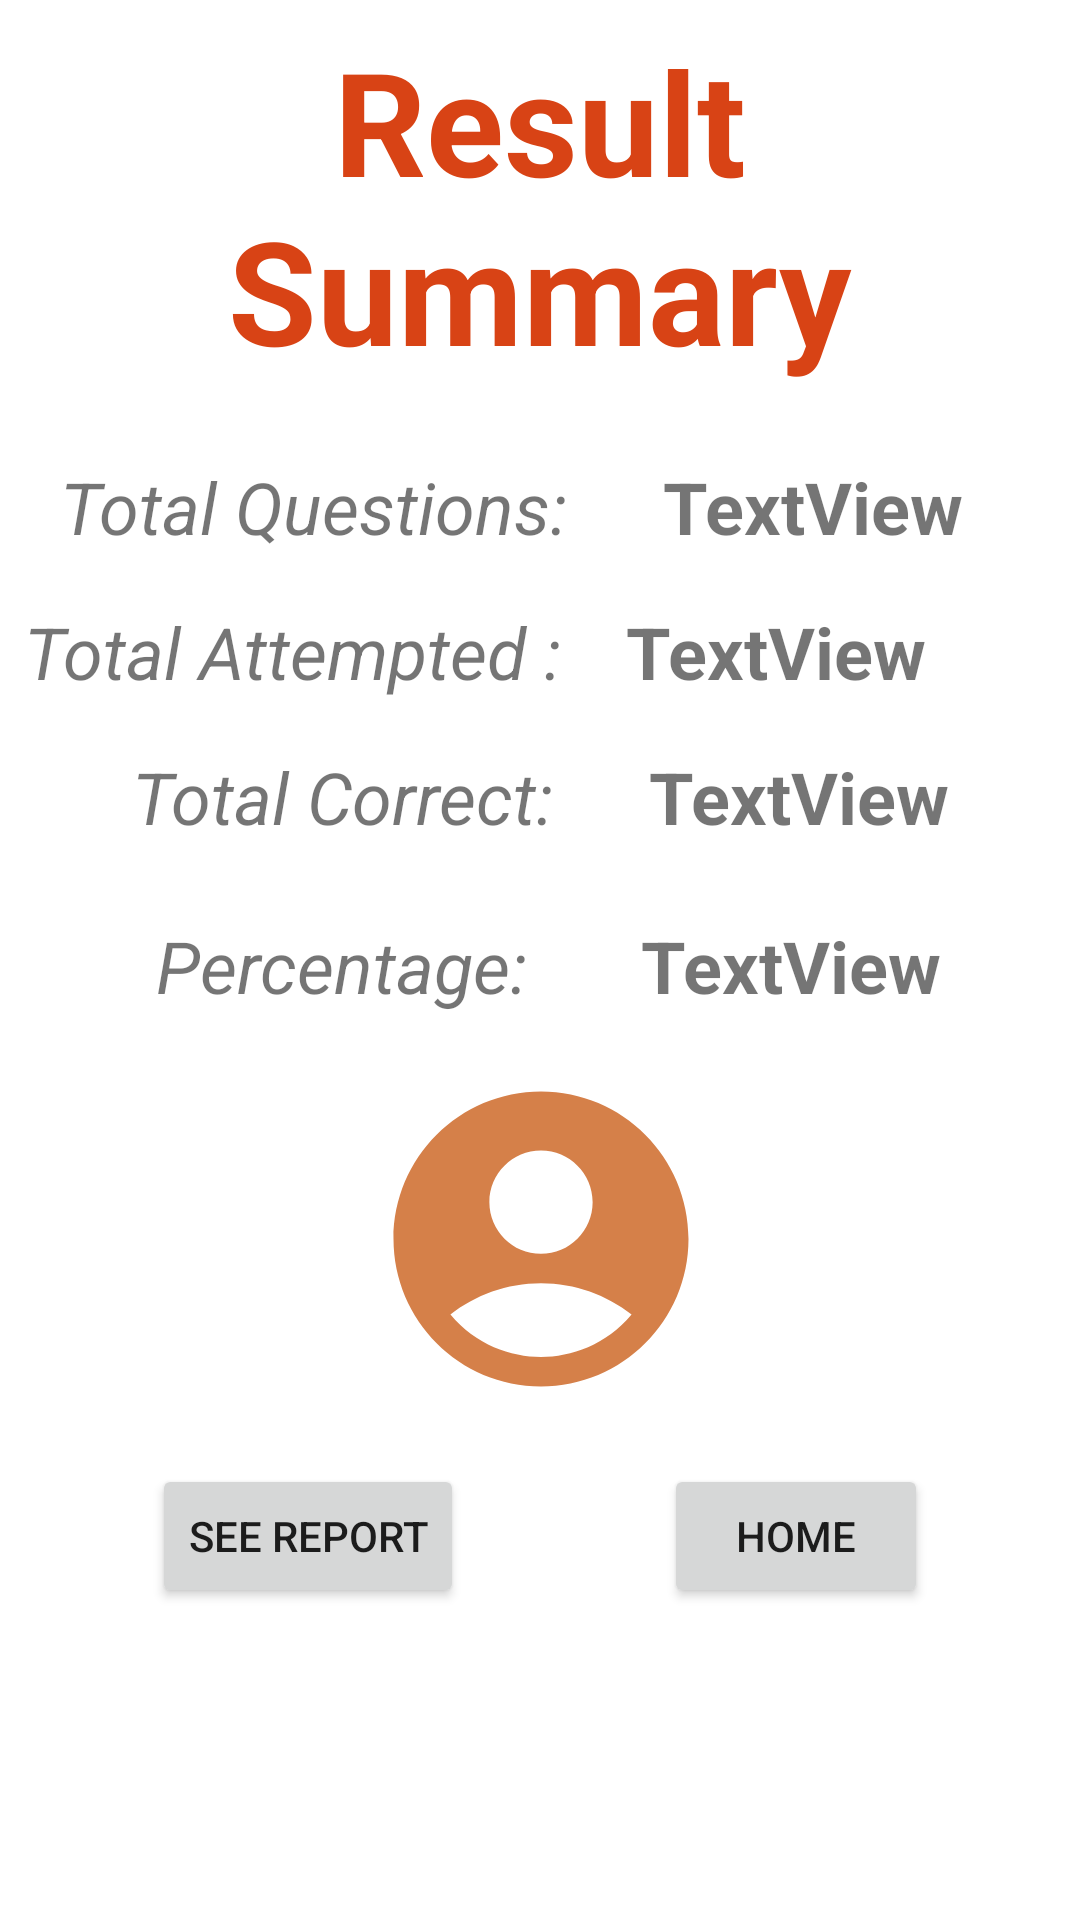

Named icons in this screenshot (1080px×1920px) and their bounding boxes, (x1=x1, y1=y1, x2=x2, y2=y2):
account circle: (x1=393, y1=1091, x2=689, y2=1387)
